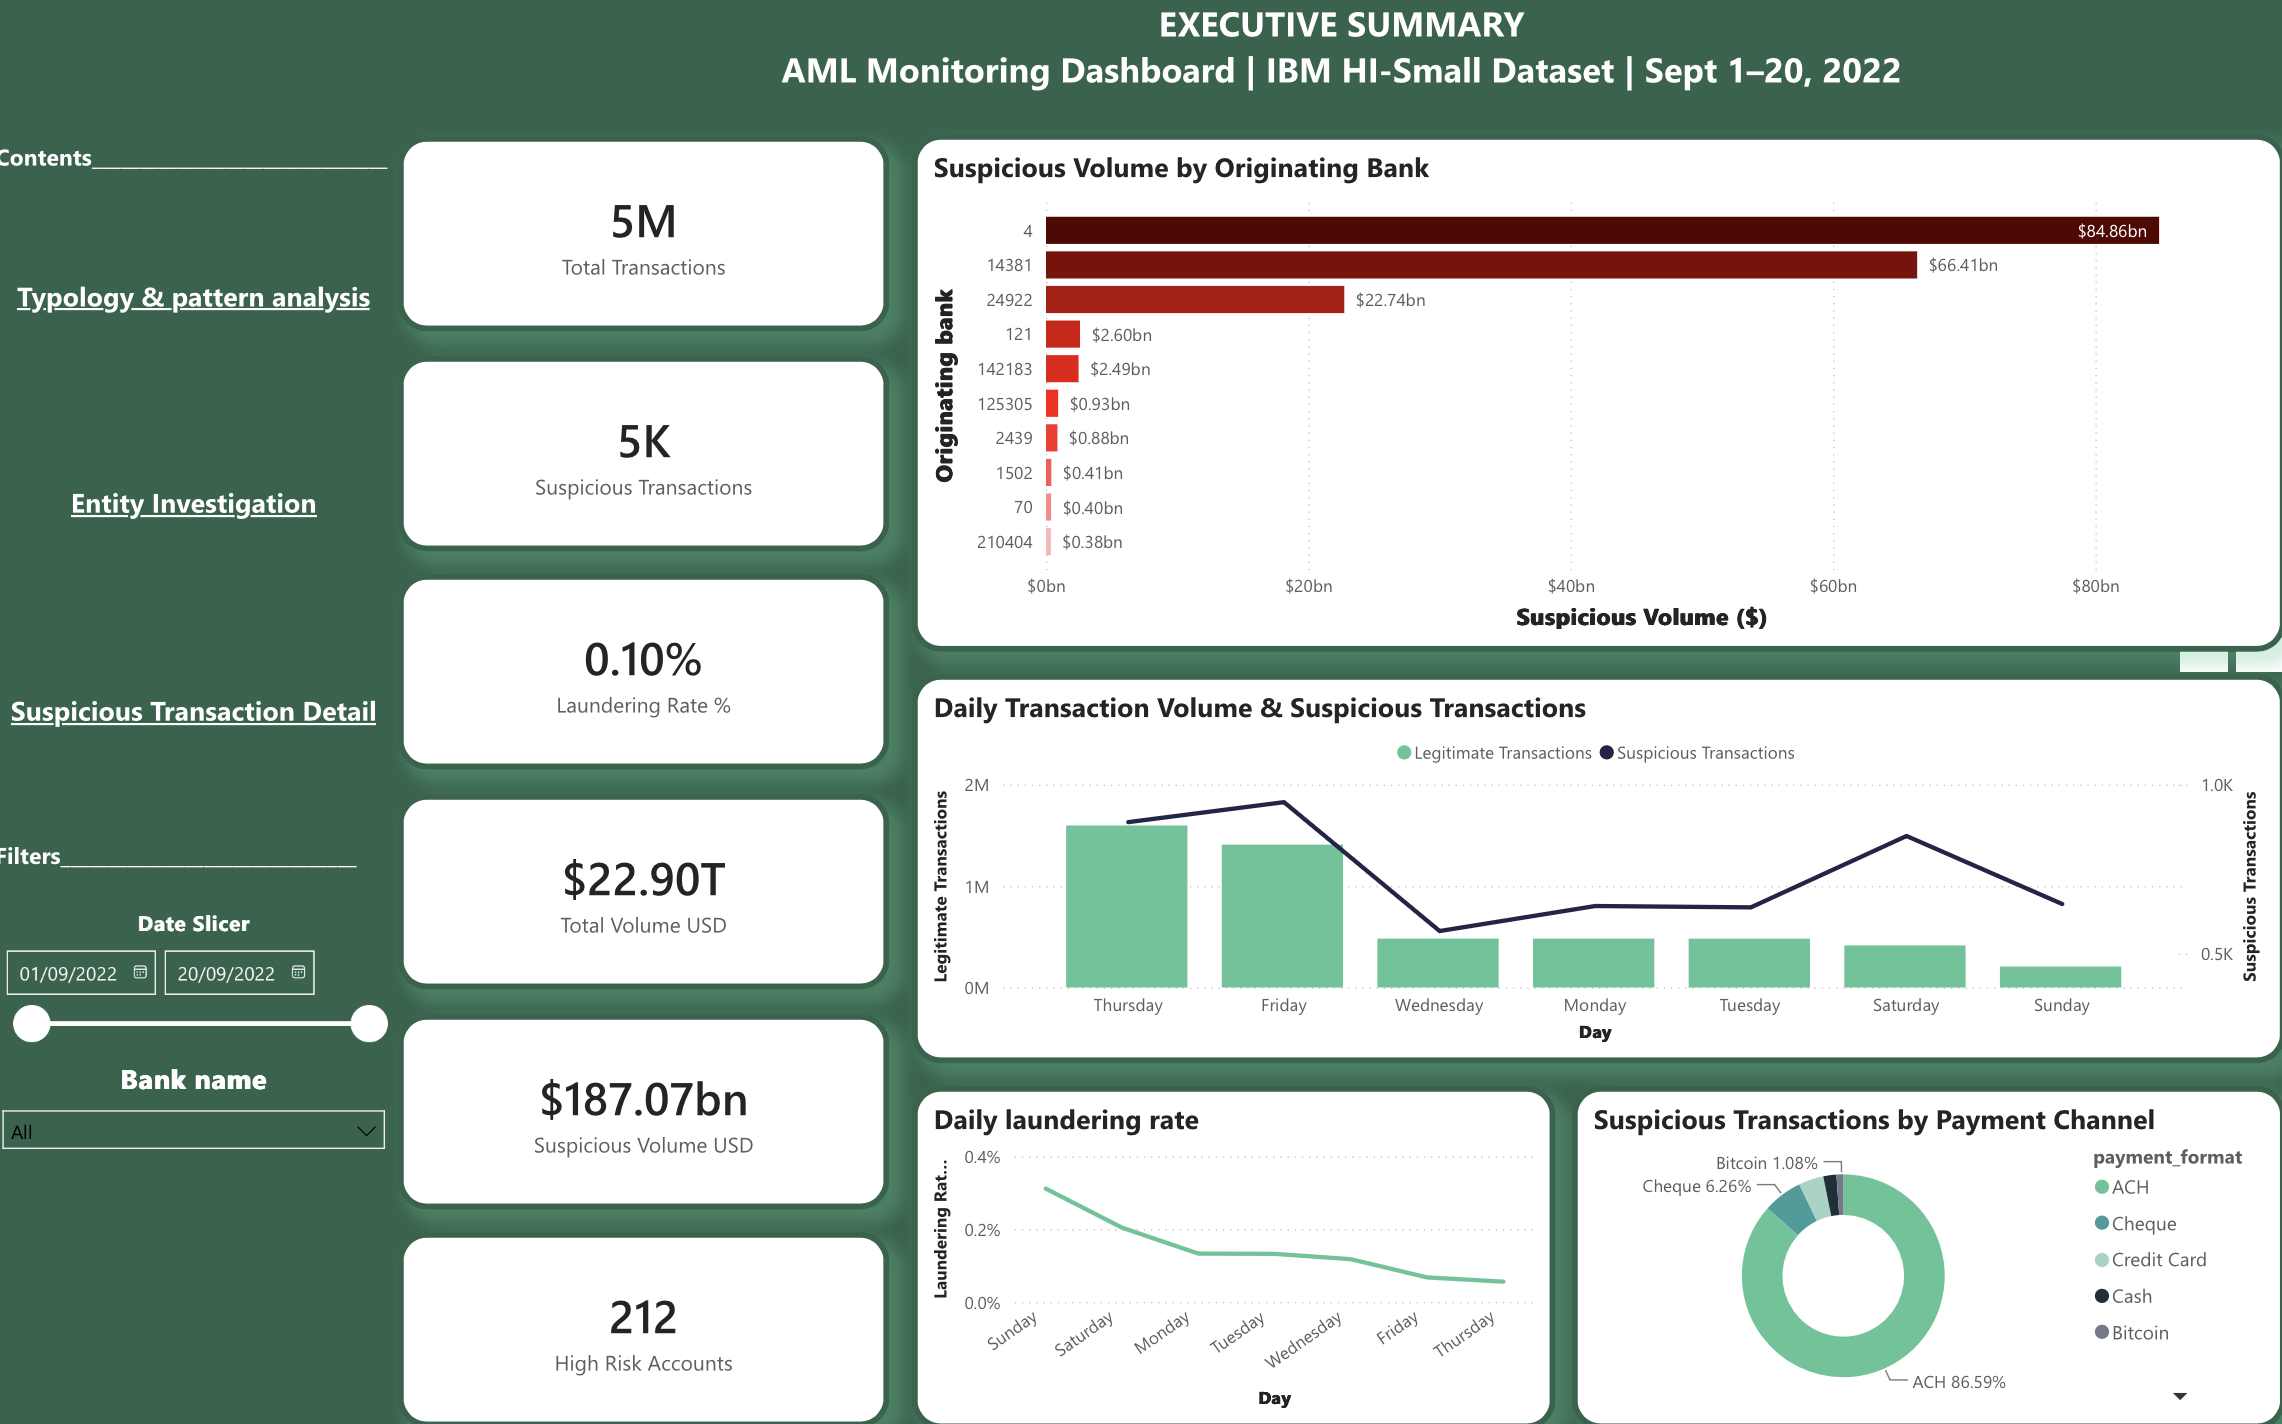

This screenshot's page, from the dashboard's own definition file:
{"tool":"powerbi","page":{"name":"Executive Summary","canvas":[1600,1000],"ordinal":0},"visuals":[{"type":"shape","title":"Sidebar Background","box":[0,0,286.3,1000.4],"z":0},{"type":"textbox","box":[286,0,1314,100],"z":1000},{"type":"cardVisual","fields":{"Data":["_Measures.Total Transactions"]},"box":[286,100,342,136],"z":2000},{"type":"cardVisual","fields":{"Data":["_Measures.Suspicious Transactions"]},"box":[286,252.8,342,136],"z":3000},{"type":"cardVisual","fields":{"Data":["_Measures.Laundering Rate %"]},"box":[286,405.6,342,136],"z":4000},{"type":"cardVisual","fields":{"Data":["_Measures.Total Volume USD"]},"box":[286,558.4,342,136],"z":5000},{"type":"cardVisual","fields":{"Data":["_Measures.Suspicious Volume USD"]},"box":[286,711.2,342,136],"z":6000},{"type":"cardVisual","fields":{"Data":["_Entity Measures.High Risk Accounts"]},"box":[286,864,342,136],"z":7000},{"type":"lineClusteredColumnComboChart","title":"Daily Transaction Volume & Suspicious Transactions ","fields":{"Y":["_Measures.Legitimate Transactions"],"Y2":["_Measures.Suspicious Transactions"],"Category":["DateTable.Day Name"]},"box":[643.4,474.9,956.6,271.2],"z":8000},{"type":"lineChart","title":"Daily laundering rate","fields":{"Category":["DateTable.Day Name"],"Y":["_Measures.Laundering Rate %"]},"box":[643.4,761.3,448,239.2],"z":9000},{"type":"clusteredBarChart","title":"Suspicious Volume by Originating Bank","fields":{"Category":["bank_risk_cache.bank_name"],"Y":["Sum(bank_risk_cache.outbound_suspicious_volume_usd)"]},"box":[643.4,99.4,956.6,360.4],"z":10000},{"type":"donutChart","title":"Suspicious Transactions by Payment Channel","fields":{"Y":["Sum(payment_format_cache.suspicious_count)"],"Category":["payment_format_cache.payment_format"]},"box":[1103.2,761.3,496.8,239.2],"z":11000},{"type":"slicer","title":"Date Slicer","fields":{"Values":["DateTable.Date"]},"box":[0,638.3,286.3,107.8],"z":12000},{"type":"slicer","title":"Bank name","fields":{"Values":["bank_risk_cache.bank_name"]},"box":[0,744.4,286.3,102.7],"z":13000},{"type":"actionButton","box":[0,156.6,286.3,111.2],"z":15000},{"type":"actionButton","box":[0,291.4,286.3,128],"z":16000},{"type":"actionButton","box":[0,436.2,286.3,128],"z":17000},{"type":"textbox","box":[0,99.4,286.3,69.1],"z":18000},{"type":"textbox","box":[0,584.4,286.3,72.4],"z":19000}]}

Visuals, with their boxes in screenshot pixels (x1, y1, x2, y2), scaled from the page's 1600x1000 canvas onto the 2282x1424 screenshot:
"Sidebar Background" shape: 0/0/408/1423
textbox: 408/0/2281/142
cardVisual - _Measures.Total Transactions: 408/142/896/336
cardVisual - _Measures.Suspicious Transactions: 408/360/896/554
cardVisual - _Measures.Laundering Rate %: 408/578/896/771
cardVisual - _Measures.Total Volume USD: 408/795/896/989
cardVisual - _Measures.Suspicious Volume USD: 408/1013/896/1206
cardVisual - _Entity Measures.High Risk Accounts: 408/1230/896/1423
"Daily Transaction Volume & Suspicious Transactions " lineClusteredColumnComboChart: 918/676/2281/1062
"Daily laundering rate" lineChart: 918/1084/1557/1423
"Suspicious Volume by Originating Bank" clusteredBarChart: 918/142/2281/655
"Suspicious Transactions by Payment Channel" donutChart: 1573/1084/2281/1423
"Date Slicer" slicer: 0/909/408/1062
"Bank name" slicer: 0/1060/408/1206
actionButton: 0/223/408/381
actionButton: 0/415/408/597
actionButton: 0/621/408/803
textbox: 0/142/408/240
textbox: 0/832/408/935
